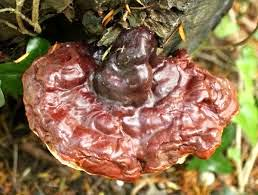Ganoderma - Fruit Body: (21, 32, 239, 181)
